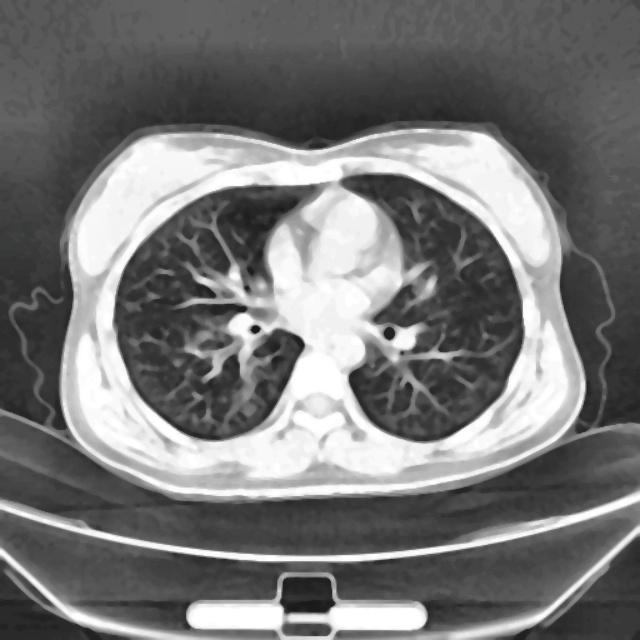covid: (56, 119, 599, 502)
